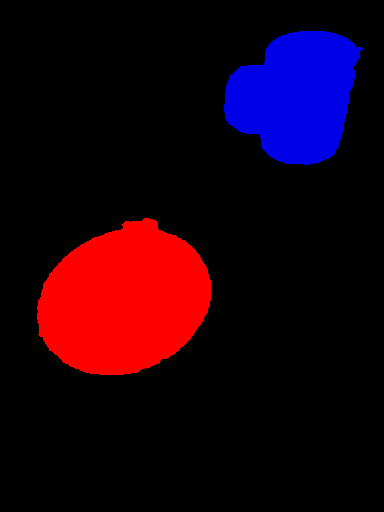cup: (222, 29, 361, 167)
speaker: (35, 221, 212, 379)
